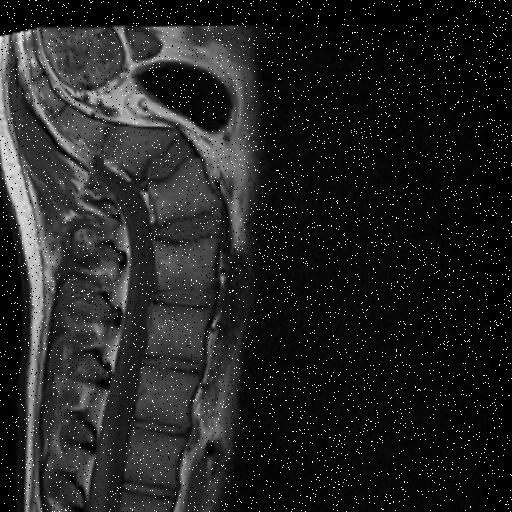L1: (129, 424, 192, 484)
L2: (140, 363, 203, 422)
L3: (151, 301, 214, 357)
L4: (159, 233, 219, 286)
L5: (149, 153, 223, 219)
S1: (104, 123, 180, 177)
